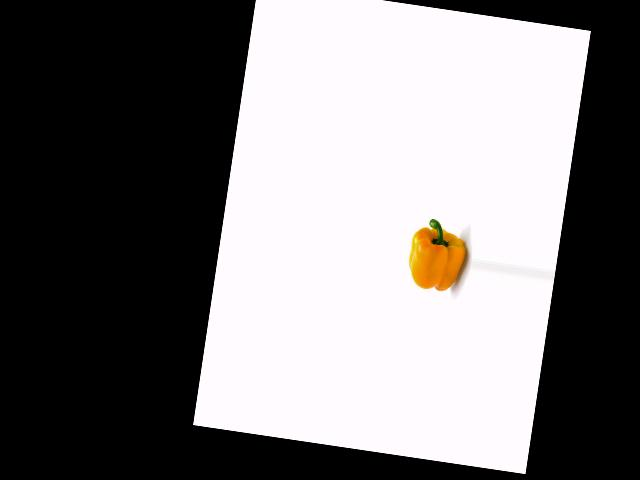bell_pepper: (402, 210, 470, 296)
